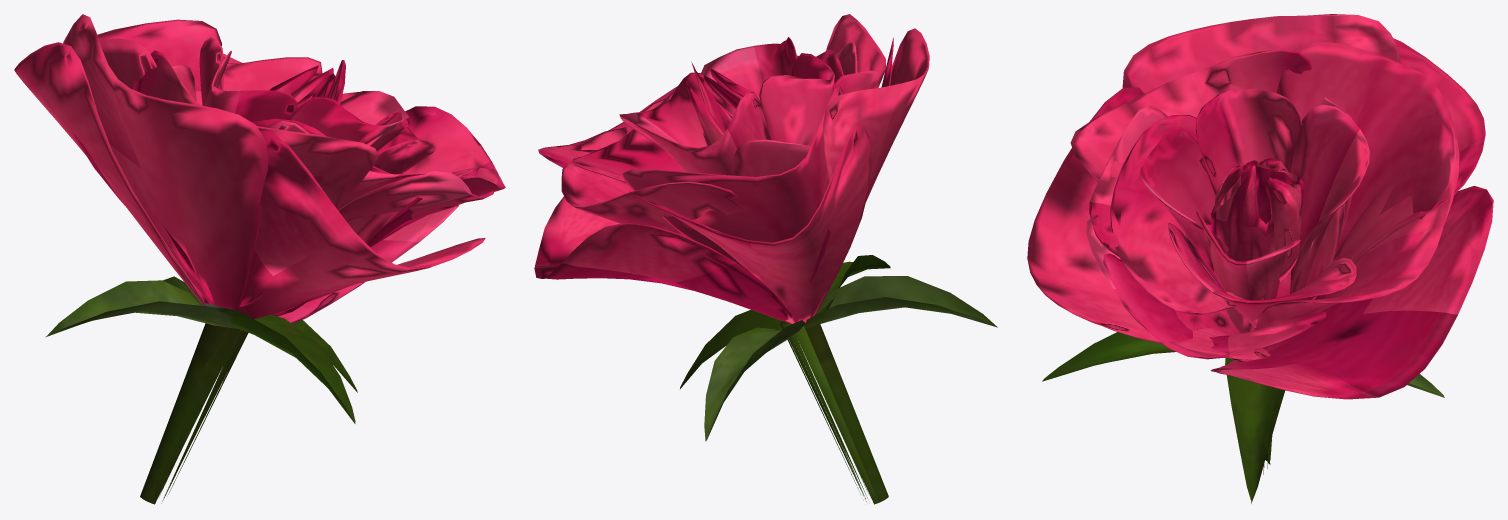
The picture shows the model from 3 angles, left to right: view 1: azimuth 30°, elevation 25°; view 2: azimuth 150°, elevation 25°; view 3: azimuth 270°, elevation 25°; orthographic projection.
Visible parts, largest first — view 1: 339bd121; view 2: 339bd121; view 3: 339bd121.
Part boxes in pixels (x1,y1,x2,y2): 339bd121: [14, 14, 505, 504]; 339bd121: [534, 14, 997, 504]; 339bd121: [1027, 14, 1493, 503].
Size of the model in its own units: 0.0938 by 0.092 by 0.086.
2 materials, 2 textured.
